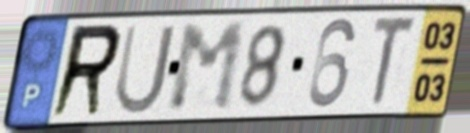6: (307, 15, 359, 113)
8: (236, 21, 290, 111)
M: (166, 19, 248, 116)
R: (46, 21, 126, 122)
T: (370, 13, 420, 111)
U: (111, 21, 179, 117)
